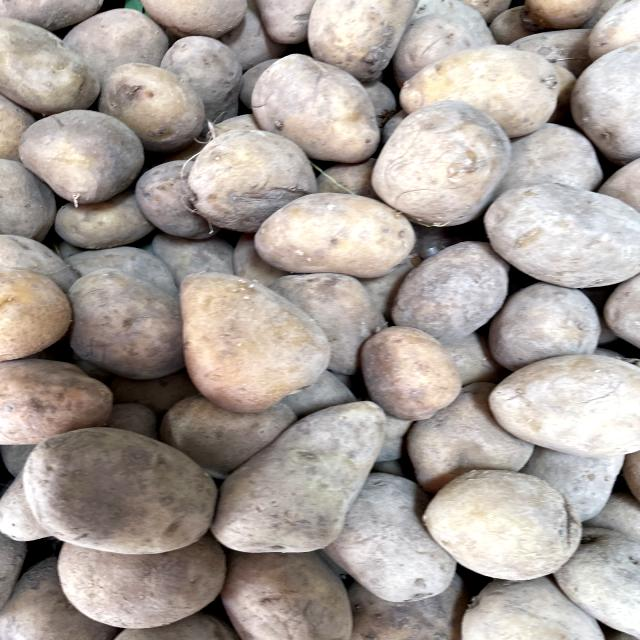potato: (204, 389, 409, 560), (19, 422, 228, 561), (176, 263, 336, 419), (415, 459, 593, 587), (468, 174, 640, 294), (478, 345, 640, 463), (240, 46, 387, 170), (247, 179, 421, 281), (11, 94, 152, 215), (351, 317, 469, 424)
